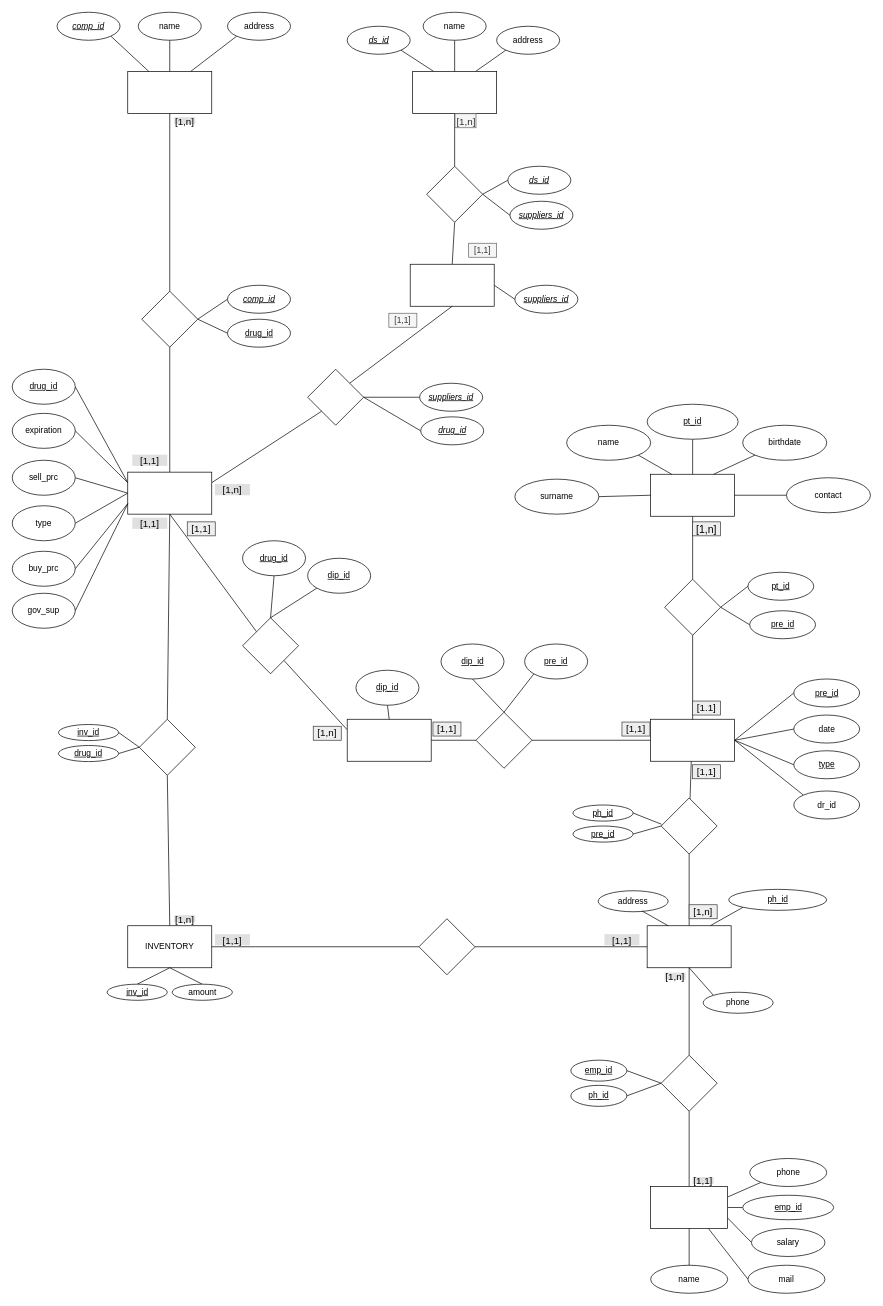
Some shapes in this 883 by 1306 pixel diagram are drawn without their labels. The shapes that lost their labels are listed below. From the top down, each one's centre as x and y in pixels, then its label:
(169,92): DRUG_COMP
(454,92): DRUG_SUPP
(454,194): DS_S
(452,285): SUPPLIERS
(169,318): MAKE
(335,397): D_S
(169,492): DRUG
(692,495): PATIENT
(692,607): PT_PRE
(270,645): HAVE
(167,747): INV_DRUG
(388,740): DRUGS_IN_PRE
(503,740): DIP_PRE
(692,740): PRESCRIPTION
(688,825): PH_PR
(446,946): PH_IN
(688,946): PHARMACY
(688,1083): WORK
(689,1207): EMPLOYEE
